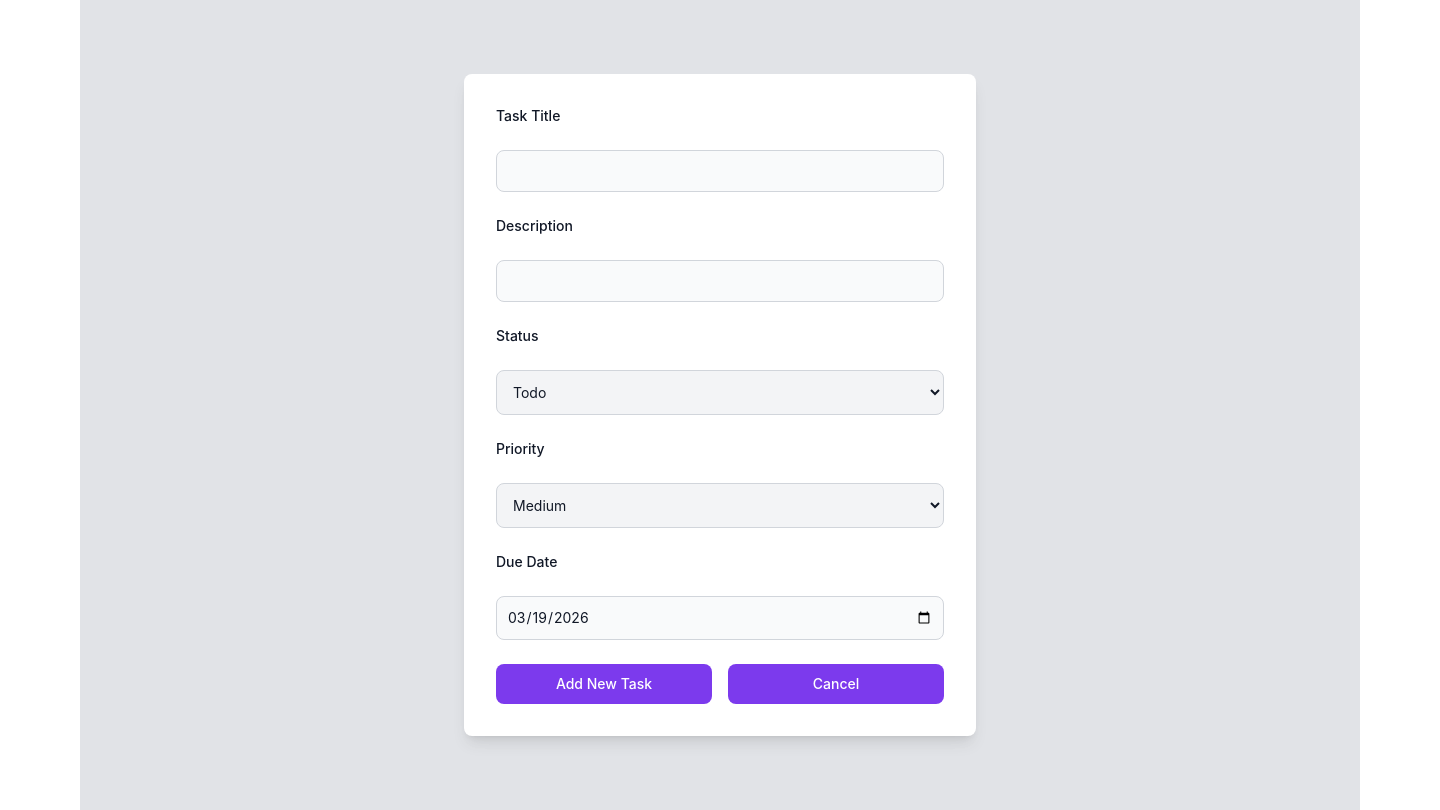
Scenario: TaskForm component › displays fallback error when network fails entirely
In the field labelled "Task Title": coordinates (720, 171) [496, 150, 944, 192], type "Fix the bug"
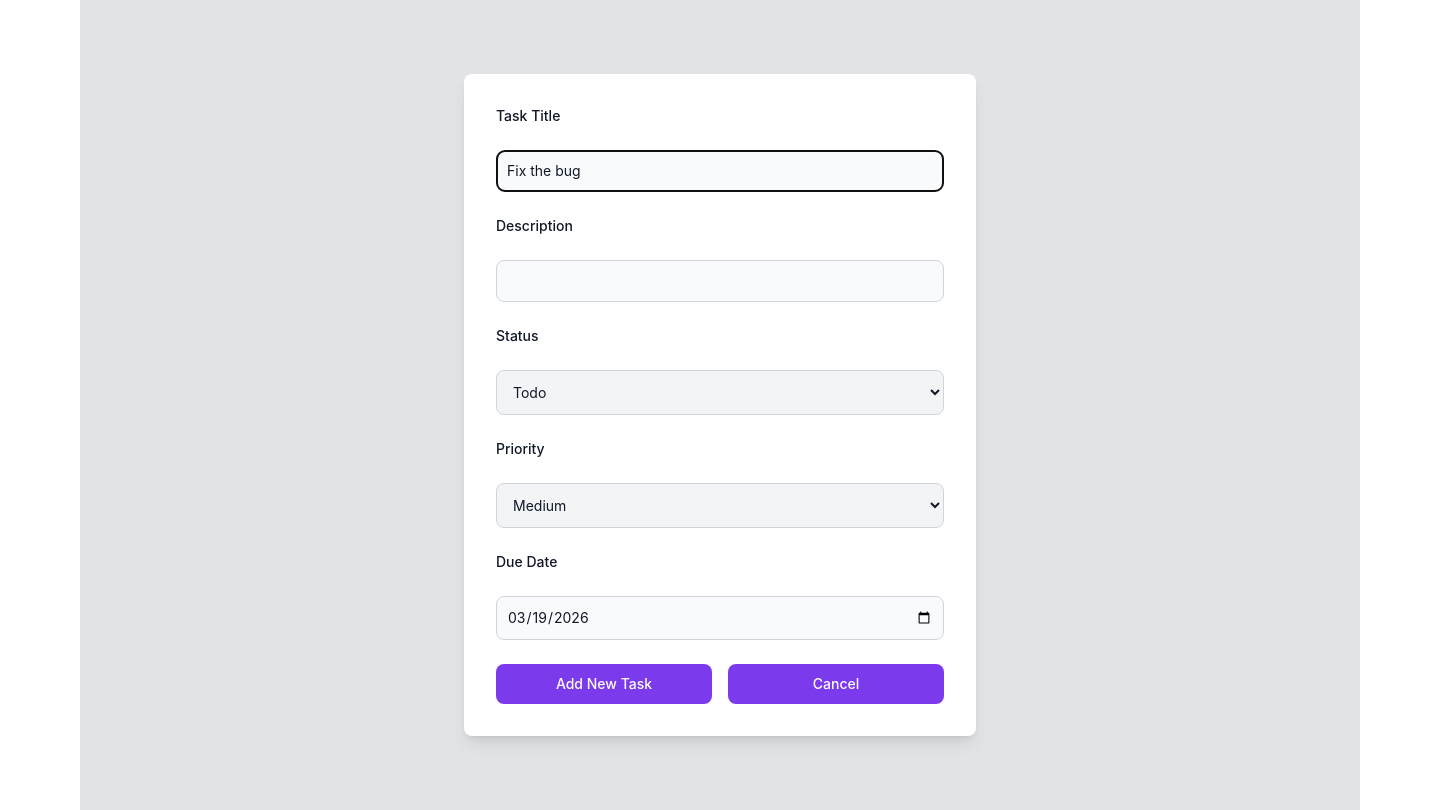
Click the button "Add New Task": coordinates (604, 684) [496, 664, 712, 704]
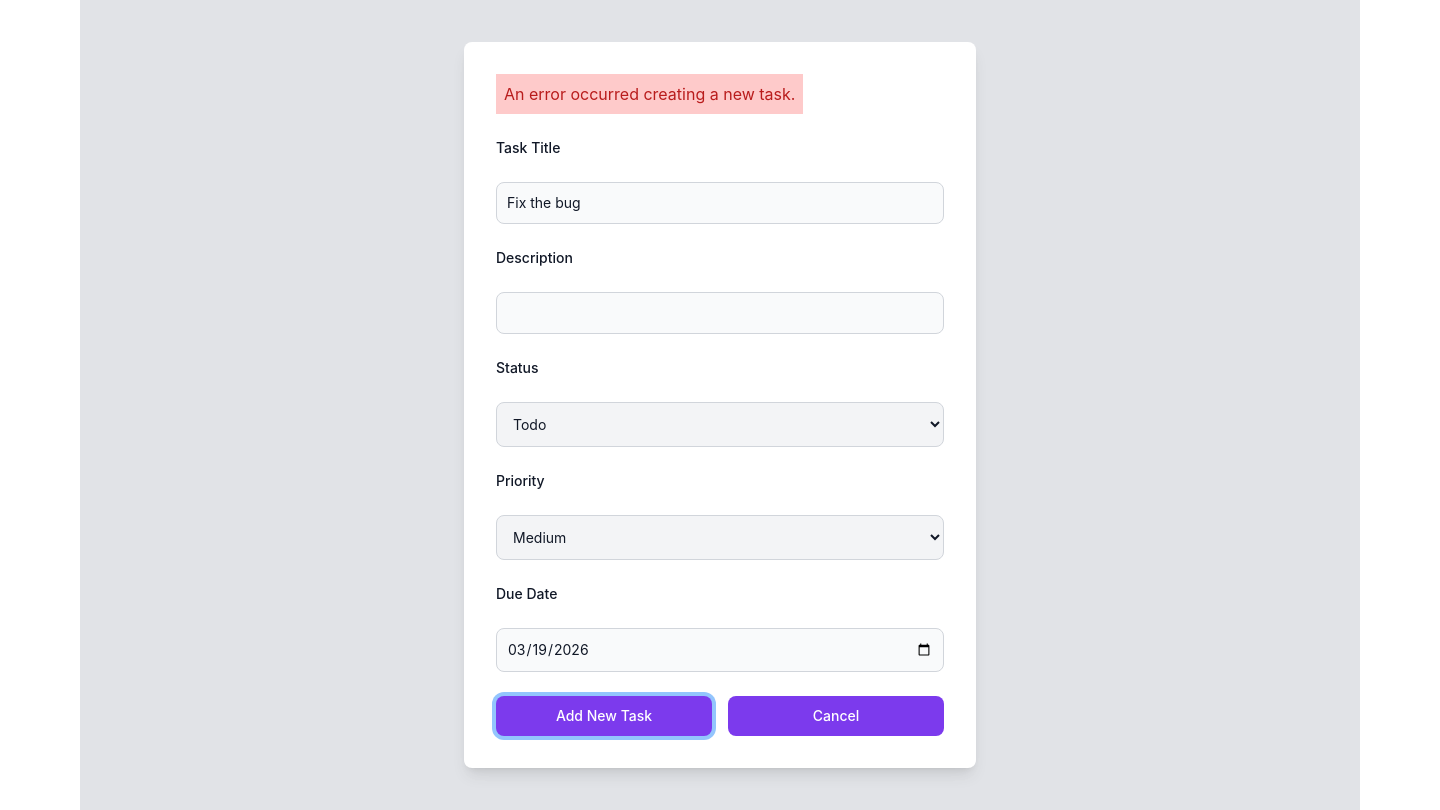
expect the text "An error occurred creating a new task." is shown: met, box [496, 74, 803, 114]
